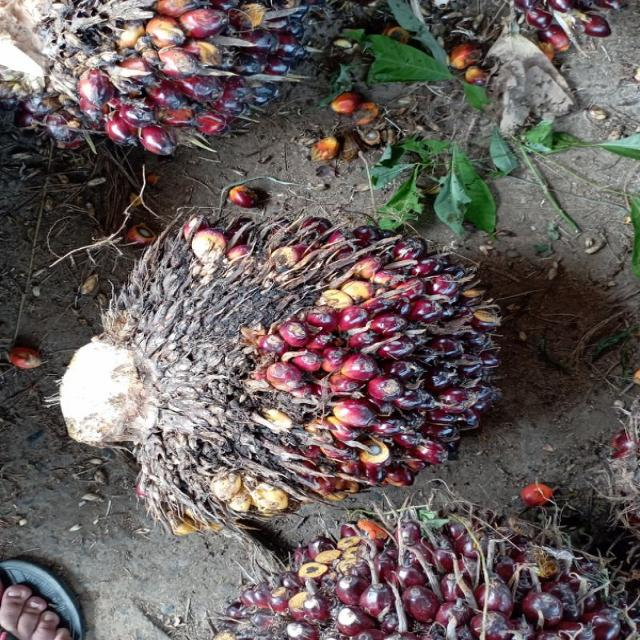fraksi 00: (113, 203, 518, 513)
